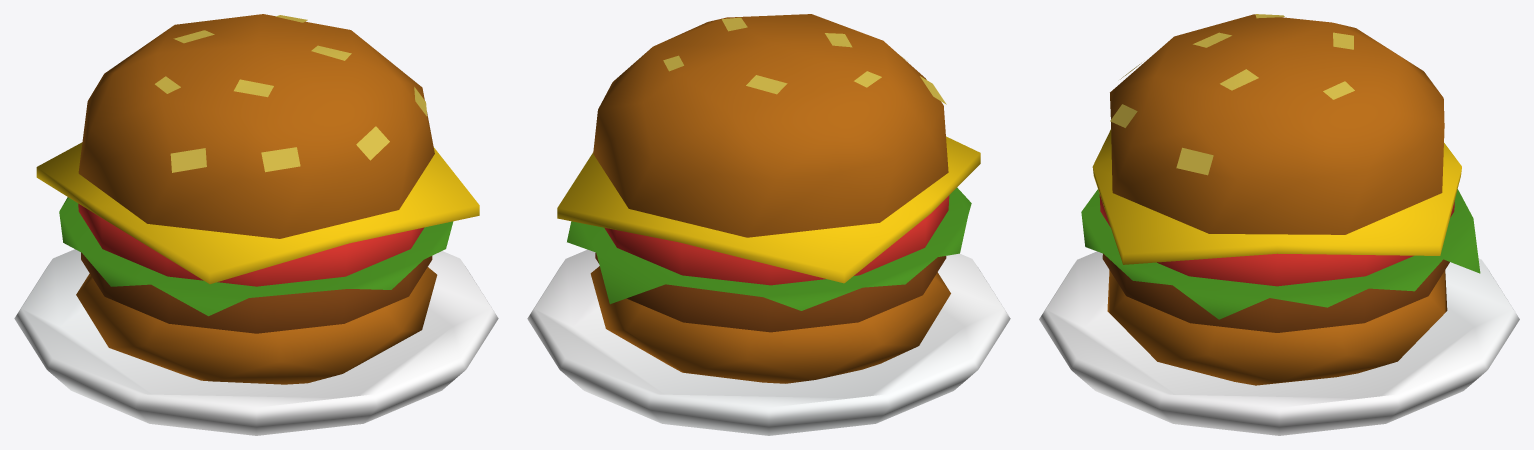
The model's file is 57_Food_Model.fbx.
The picture shows the model from 3 angles, left to right: view 1: azimuth 30°, elevation 25°; view 2: azimuth 150°, elevation 25°; view 3: azimuth 270°, elevation 25°; orthographic projection.
Parts seen in each view (by area): view 1: 57_Food_Model; view 2: 57_Food_Model; view 3: 57_Food_Model.
Part boxes in pixels (box(x1,y1,x2,y2)): 57_Food_Model: box(14, 14, 498, 435); 57_Food_Model: box(527, 14, 1010, 435); 57_Food_Model: box(1039, 14, 1519, 435).
Bounding box in the file's own units: 144 × 98.9 × 144.
